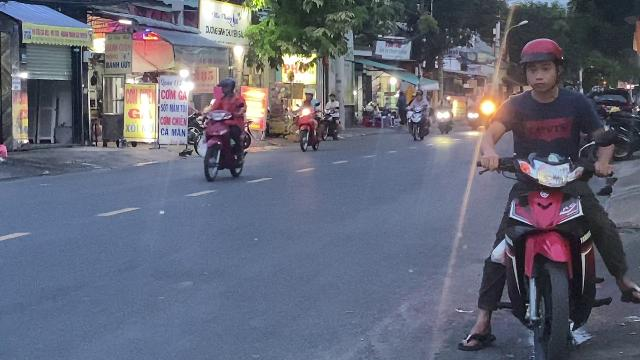helmet: (515, 38, 567, 94), (218, 76, 236, 96)
motorcyclist: (464, 35, 638, 356), (196, 76, 252, 182)
